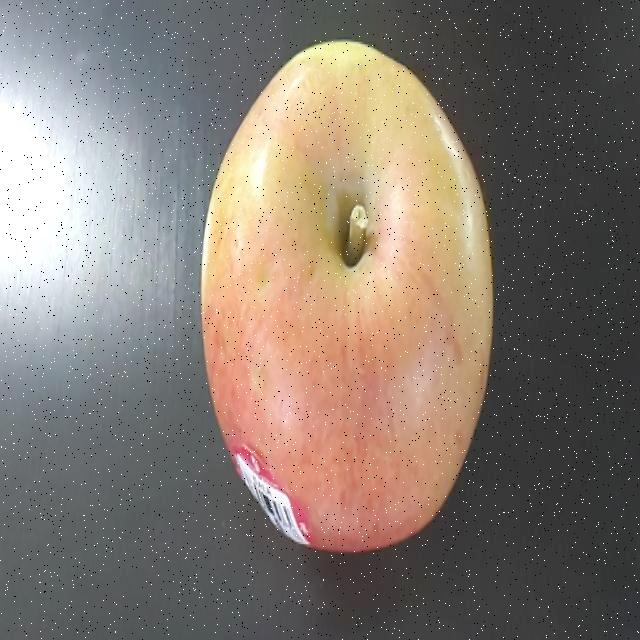Apel Merah: (178, 34, 518, 562)
